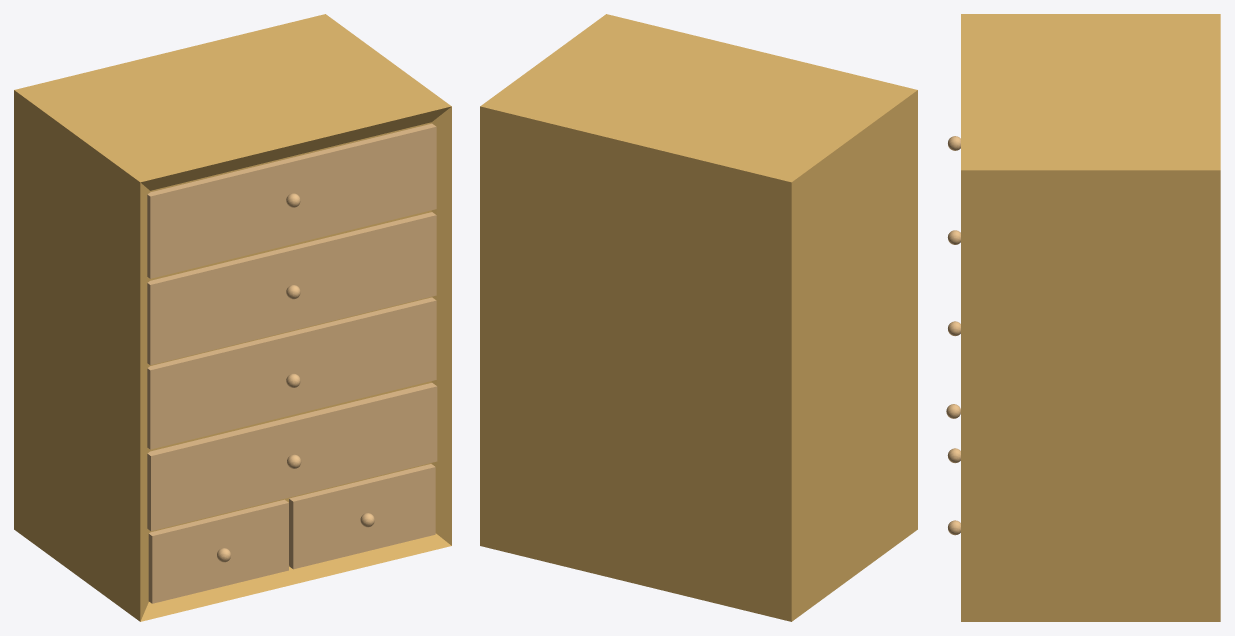
3 renders of one model, left to right at view 1: azimuth 30°, elevation 25°; view 2: azimuth 150°, elevation 25°; view 3: azimuth 270°, elevation 25°, orthographic. The views are drawn at different scales.
Parts seen in each view (by area): view 1: Cube.017, Sphere.005, Sphere.004, Sphere.003, Sphere.002, Sphere, Cube.014; view 2: Cube.017; view 3: Cube.017.
Boxes of the visible parts, x1=… form: Cube.017: x1=14, y1=14, x2=451, y2=621; Sphere.005: x1=147, y1=123, x2=436, y2=278; Sphere.004: x1=147, y1=212, x2=436, y2=365; Sphere.003: x1=147, y1=297, x2=436, y2=449; Sphere.002: x1=147, y1=383, x2=437, y2=531; Sphere: x1=289, y1=464, x2=435, y2=569; Cube.014: x1=148, y1=499, x2=288, y2=603; Cube.017: x1=480, y1=14, x2=917, y2=621; Cube.017: x1=961, y1=14, x2=1220, y2=621.
Bounding box in the file's own units: 250 × 337 × 185.
